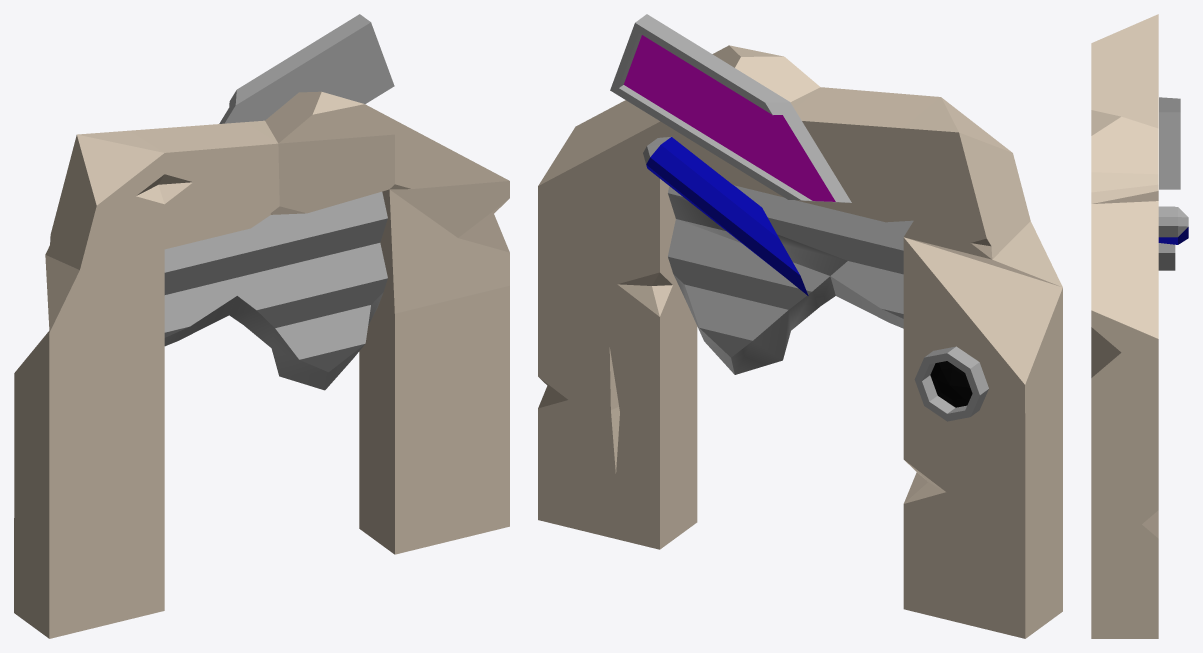
The model's file is Broken_Door_001.fbx.
The picture shows the model from 3 angles, left to right: view 1: azimuth 30°, elevation 25°; view 2: azimuth 150°, elevation 25°; view 3: azimuth 270°, elevation 25°; orthographic projection. The views are drawn at different scales.
Parts seen in each view (by area): view 1: Broken_Door_003; view 2: Broken_Door_003; view 3: Broken_Door_003.
Part boxes in pixels (bbox=[...]): Broken_Door_003: bbox=[14, 14, 509, 638]; Broken_Door_003: bbox=[538, 14, 1062, 638]; Broken_Door_003: bbox=[1091, 14, 1188, 638].
Size of the model in its own units: 3 by 3.13 by 0.5785.
